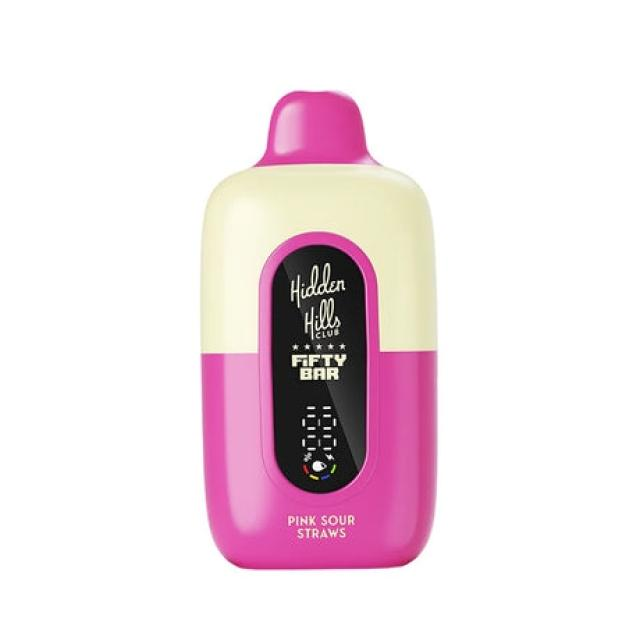Hazard: (198, 88, 438, 570)
